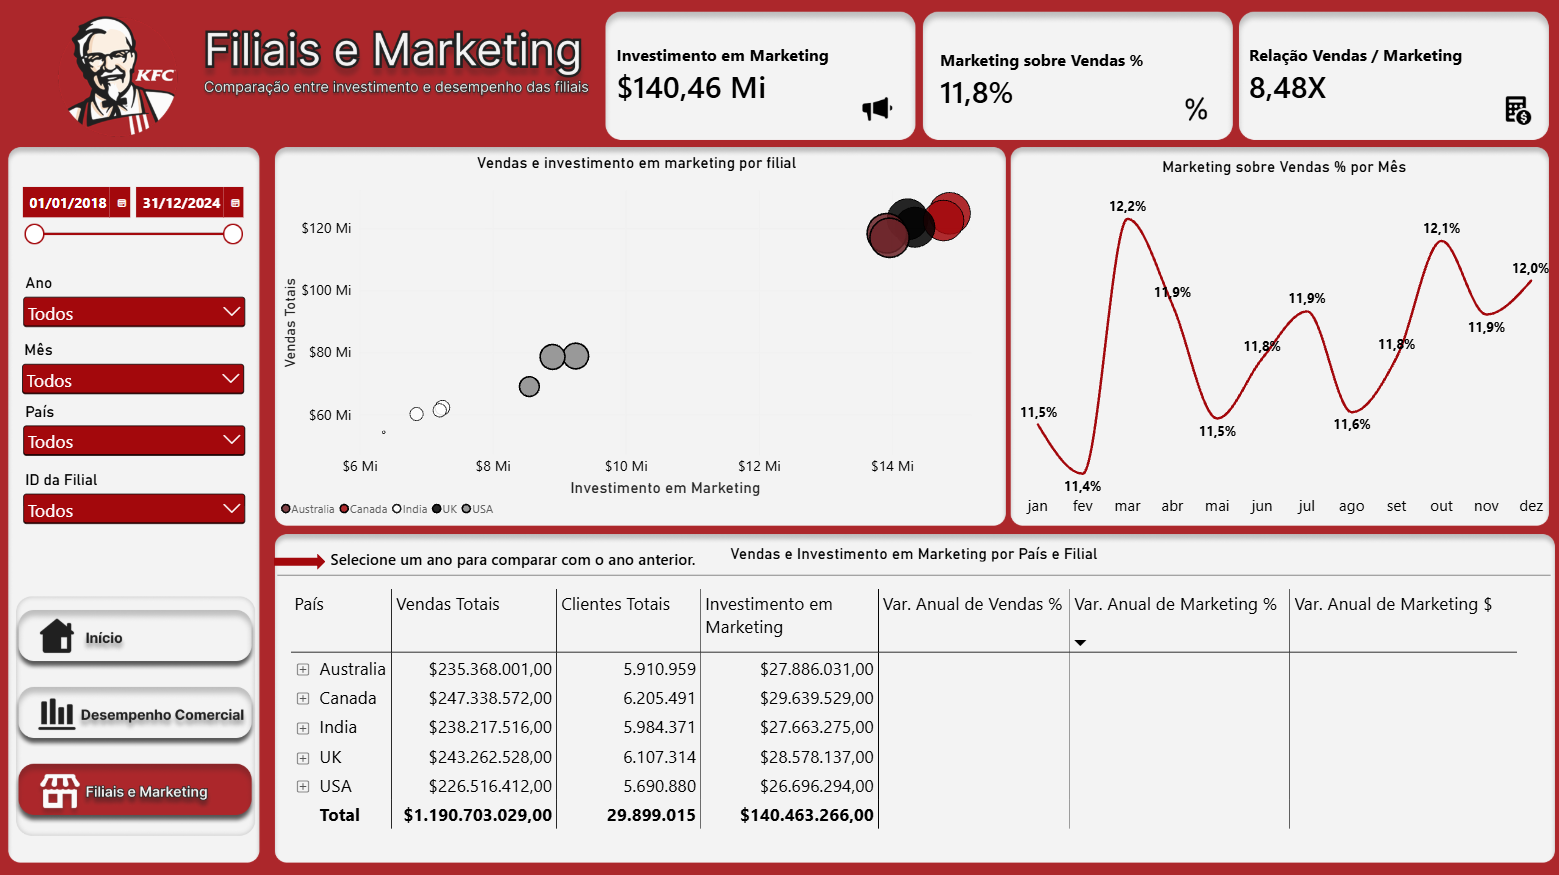

The page's visual inventory and layout, read from the dashboard file:
{"tool":"powerbi","page":{"name":"Filiais e Marketing","canvas":[1920,1080],"ordinal":2},"visuals":[{"type":"scatterChart","title":"Vendas e investimento em marketing por filial","fields":{"Category":["Conjunto de dados de vendas globais do KFC (2018–2024).ID da Filial"],"Series":["Conjunto de dados de vendas globais do KFC (2018–2024).País"],"Size":["Medidas.Clientes Totais"],"X":["Medidas.Investimento em Marketing"],"Y":["Medidas.Vendas Totais"]},"box":[330.2,178.3,907.4,480.7],"z":0},{"type":"pivotTable","title":"Vendas e Investimento em Marketing por País e Filial","fields":{"Rows":["Conjunto de dados de vendas globais do KFC (2018–2024).País","Conjunto de dados de vendas globais do KFC (2018–2024).ID da Filial"],"Values":["Medidas.Vendas Totais","Medidas.Clientes Totais","Medidas.Investimento em Marketing","Medidas.Variação Anual de Vendas % - Matriz","Medidas.Variação Anual de Marketing % - Matriz","Medidas.Variação Anual de Marketing"]},"box":[342.4,657.8,1564.3,422.2],"z":1000},{"type":"cardVisual","fields":{"Data":["Medidas.Marketing sobre Vendas %"]},"box":[1139.7,19,379.9,165.1],"z":2000},{"type":"cardVisual","fields":{"Data":["Medidas.Vendas por Unidade de Marketing"]},"box":[1519.6,19,375.5,154.9],"z":3000},{"type":"areaChart","title":"Marketing sobre Vendas % por Mês ","fields":{"Category":["dCalendario.Mês Abreviado"],"Y":["Medidas.Marketing sobre Vendas %"]},"box":[1237.6,184.1,682.4,474.9],"z":4000},{"type":"slicer","fields":{"Values":["Conjunto de dados de vendas globais do KFC (2018–2024).ID da Filial"]},"box":[24,581.1,283.5,85.2],"z":5000},{"type":"slicer","fields":{"Values":["Conjunto de dados de vendas globais do KFC (2018–2024).País"]},"box":[24,497.7,283.5,83.7],"z":6000},{"type":"slicer","fields":{"Values":["dCalendario.Ano"]},"box":[24,339.3,283.5,82.3],"z":7000},{"type":"slicer","fields":{"Values":["dCalendario.Data"]},"box":[20.6,227.7,283.5,104.3],"z":8000},{"type":"cardVisual","fields":{"Data":["Medidas.Investimento em Marketing"]},"box":[742.3,13.2,388.7,165.1],"z":9000},{"type":"image","box":[1451,116.9,39.5,42.4],"z":10000},{"type":"image","box":[1844,116.9,39.5,42.4],"z":11000},{"type":"image","box":[1059.4,116.9,39.5,42.4],"z":12000},{"type":"actionButton","box":[23.3,852.8,280.9,58.2],"z":13000},{"type":"actionButton","box":[23.3,758,280.9,56.5],"z":14000},{"type":"slicer","fields":{"Values":["dCalendario.Mês Abreviado"]},"box":[22.6,421.3,283.5,82.3],"z":15000},{"type":"shape","box":[337.5,683.2,63.2,19.9],"z":15003},{"type":"cardVisual","fields":{"Data":["Medidas.Aviso de Comparação Anual - Matriz"]},"box":[390.5,655.8,536,72.7],"z":15004}]}

Visuals, with their boxes in screenshot pixels (x1, y1, x2, y2), scaled from the page's 1920x1080 canvas onto the 1559x875 screenshot:
"Vendas e investimento em marketing por filial" scatterChart: 268 144 1005 534
"Vendas e Investimento em Marketing por País e Filial" pivotTable: 278 533 1548 874
cardVisual - Medidas.Marketing sobre Vendas %: 925 15 1234 149
cardVisual - Medidas.Vendas por Unidade de Marketing: 1234 15 1539 141
"Marketing sobre Vendas % por Mês " areaChart: 1005 149 1558 534
slicer - Conjunto de dados de vendas globais do KFC (2018–2024).ID da Filial: 19 471 250 540
slicer - Conjunto de dados de vendas globais do KFC (2018–2024).País: 19 403 250 471
slicer - dCalendario.Ano: 19 275 250 342
slicer - dCalendario.Data: 17 184 247 269
cardVisual - Medidas.Investimento em Marketing: 603 11 918 144
image: 1178 95 1210 129
image: 1497 95 1529 129
image: 860 95 892 129
actionButton: 19 691 247 738
actionButton: 19 614 247 660
slicer - dCalendario.Mês Abreviado: 18 341 249 408
shape: 274 554 325 570
cardVisual - Medidas.Aviso de Comparação Anual - Matriz: 317 531 752 590
